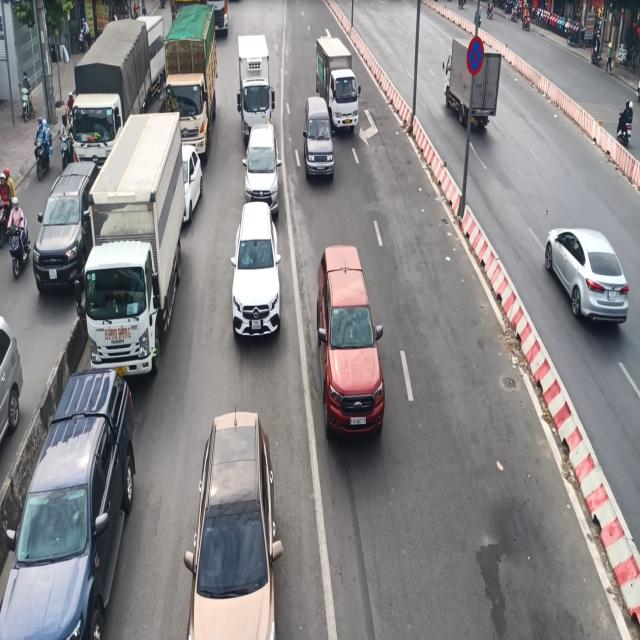car: (173, 398, 292, 640), (316, 229, 388, 436), (544, 204, 636, 331), (230, 188, 284, 353), (296, 92, 336, 178)
truck: (316, 33, 368, 130)
